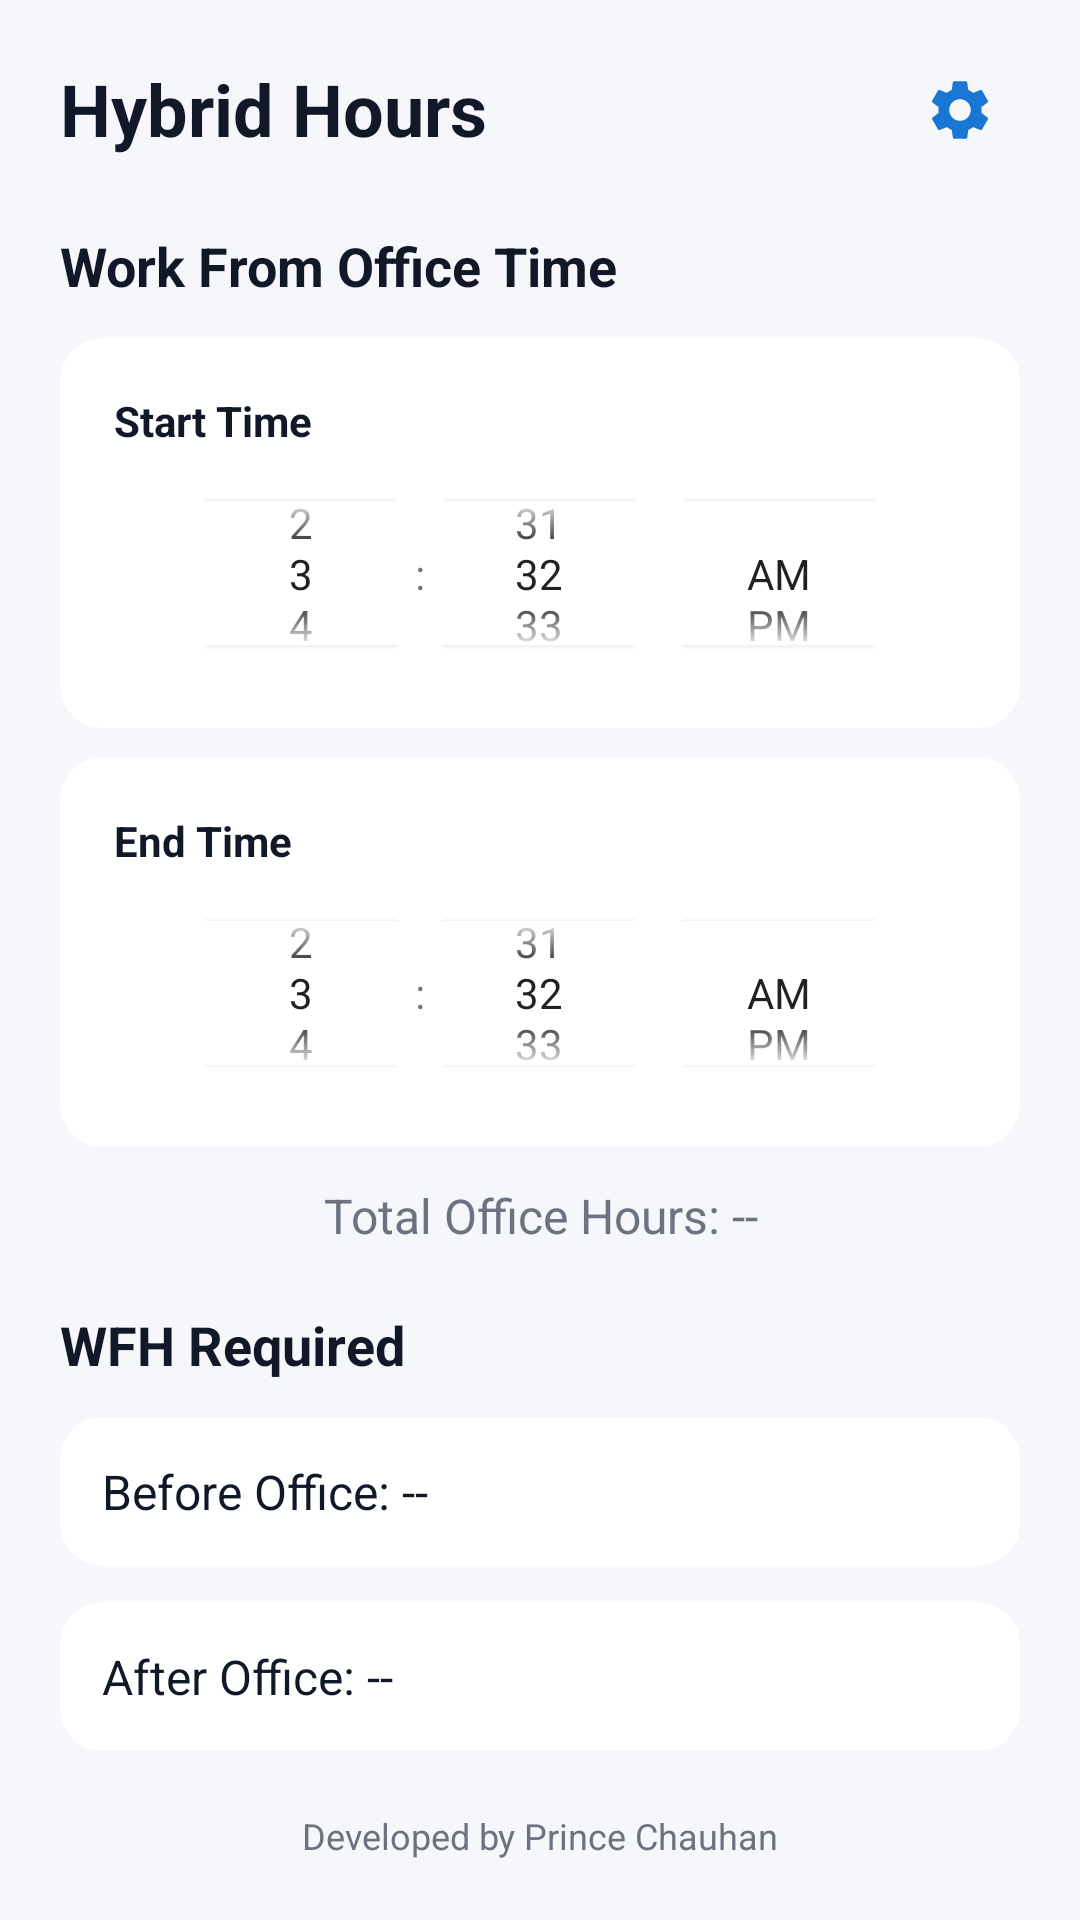

Where icons sit on this 1080×1920 app screen, as bbox(x1, y1, x2, y2):
Settings: bbox(932, 81, 988, 139)
